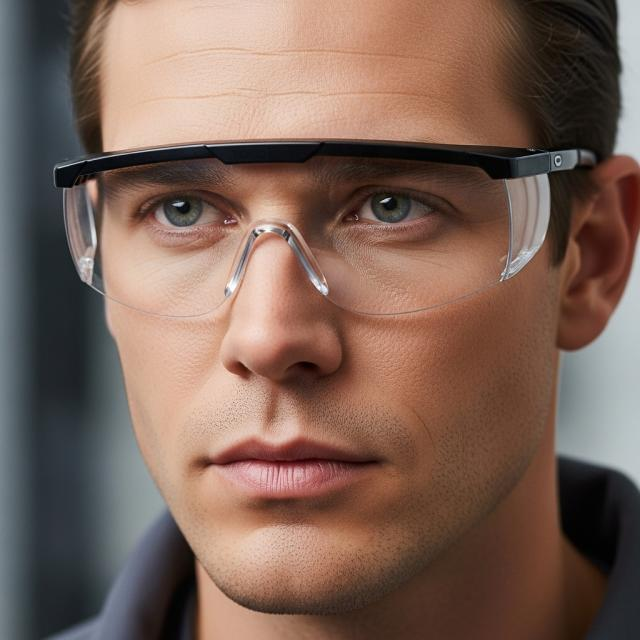oculos-epi: (54, 139, 595, 323)
